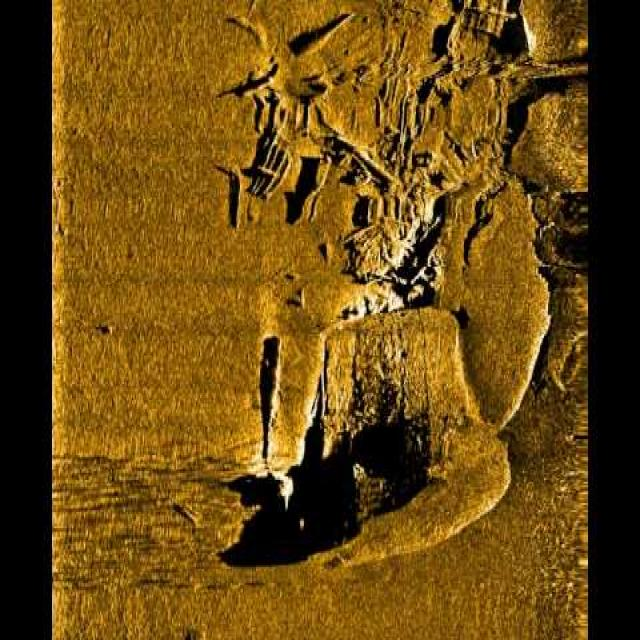other: (213, 0, 591, 300), (240, 308, 504, 574)
